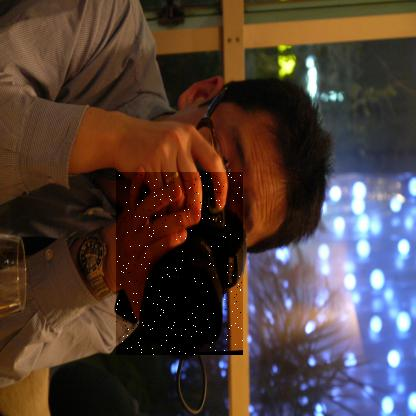Camera: (117, 173, 245, 357)
